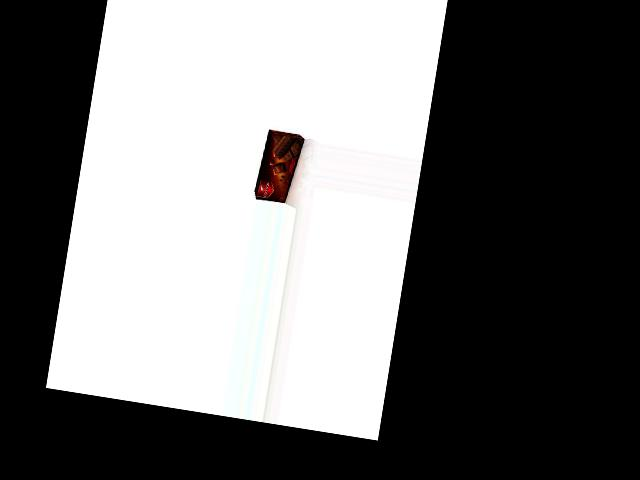chocolate: (252, 129, 306, 205)
